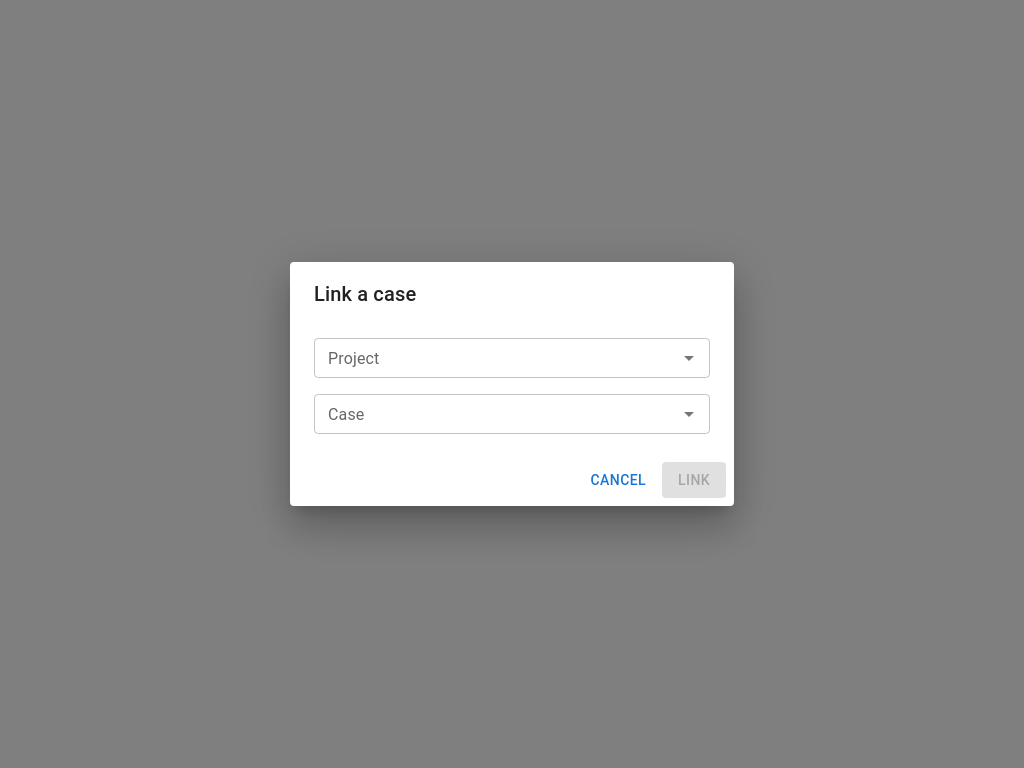
Test: CasePickerDialog (CTA-188; autocompletes since CTA-199) › searches every Project, under their names, while none is chosen
Expected: the dropdown labelled "Project" is empty, [320,344,671,372]
Type "move" into the dropdown labelled "Case" at {"x": 496, "y": 414}, box [320,400,671,428]
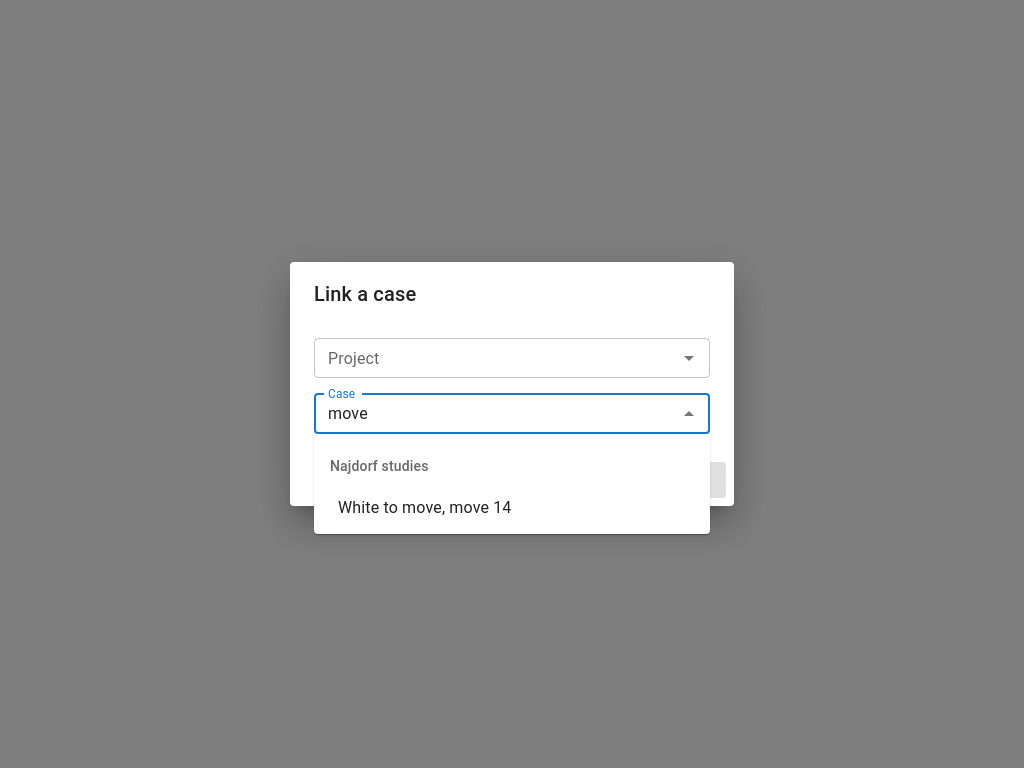
Result: the text "Najdorf studies" is shown at [314,442,710,490]
Picked: its Project becomes the chosen one.
Click the option "White to move, move 14" at {"x": 425, "y": 508}, box [338,498,512,517]
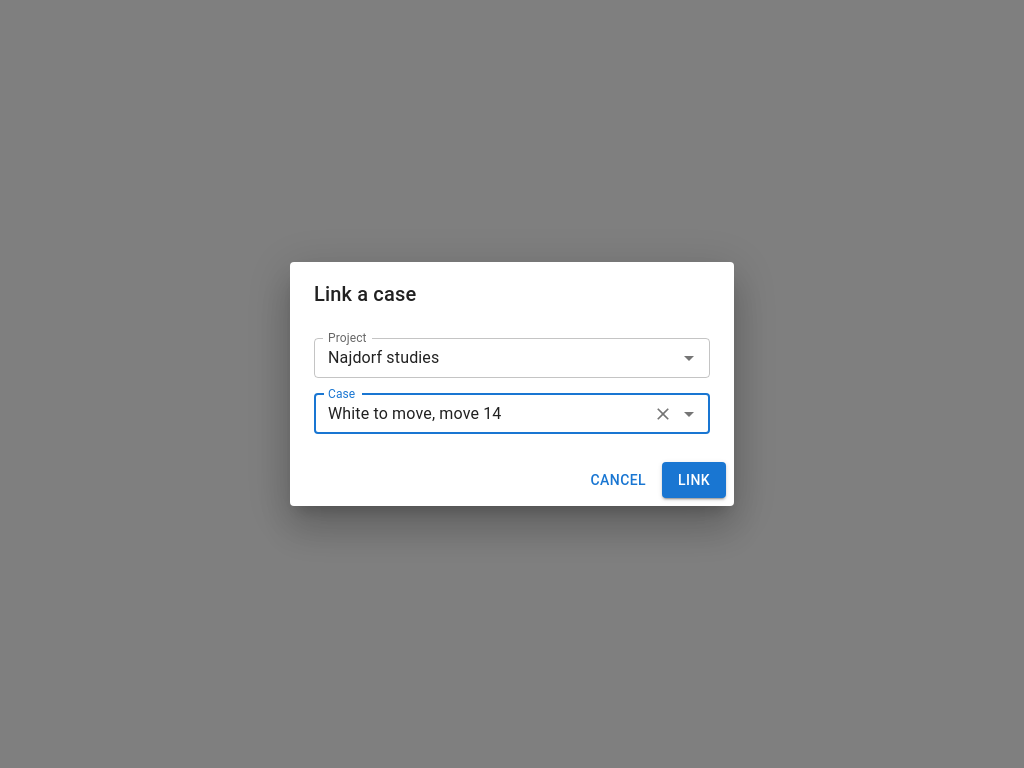
Result: the dropdown labelled "Project" holds "Najdorf studies" at [320,344,645,372]
